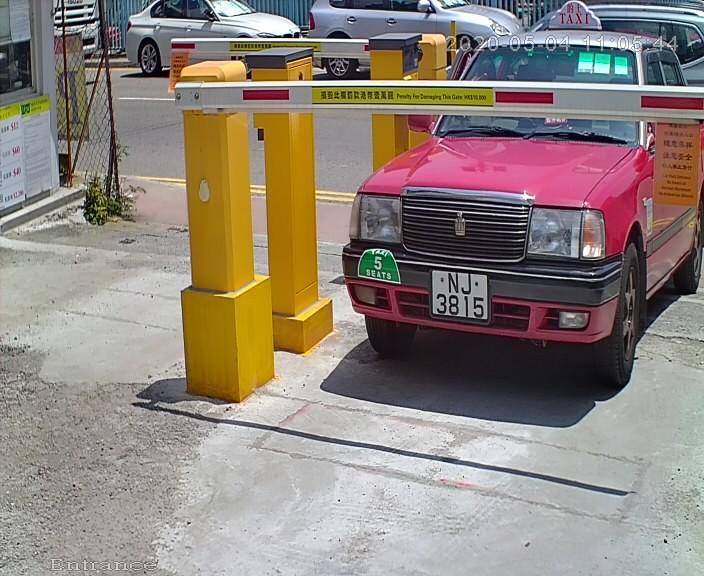Car: (329, 1, 699, 385)
License Plate: (428, 265, 500, 327)
